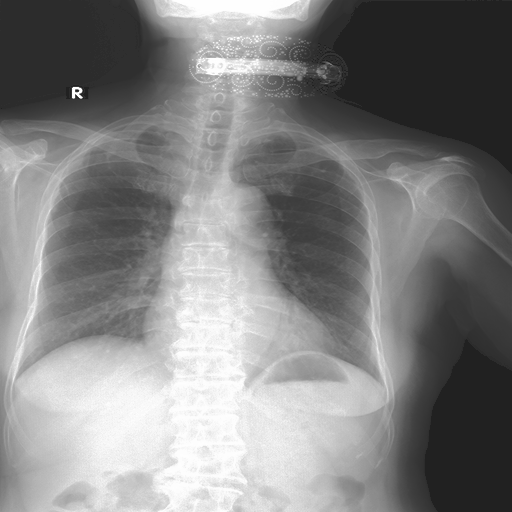Calcification: (299, 132, 340, 161)
Consolidation: (161, 184, 274, 267), (230, 184, 272, 230)
Nodule/Mass: (143, 306, 334, 357)
Other lesion: (88, 145, 109, 170)
Pleural thickening: (88, 145, 109, 170)
